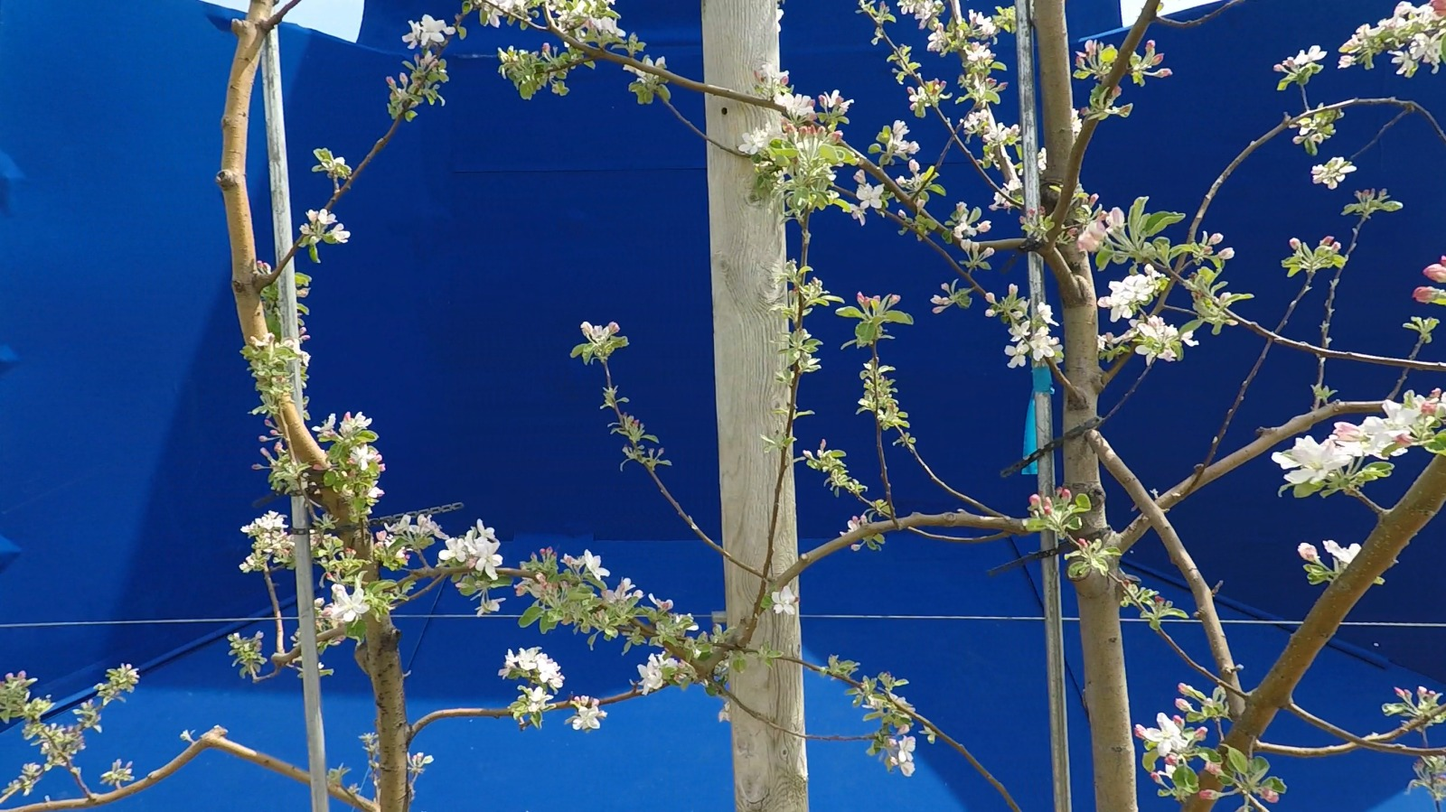flower: (1272, 390, 1440, 484), (375, 515, 503, 581), (1339, 0, 1446, 52), (1136, 713, 1197, 784), (1098, 314, 1178, 367), (1098, 265, 1166, 322), (498, 648, 565, 692), (1388, 28, 1446, 78), (556, 0, 625, 39), (315, 581, 371, 625), (1077, 207, 1125, 256), (845, 170, 885, 227), (241, 511, 294, 551), (402, 14, 456, 50), (637, 651, 678, 695), (300, 210, 350, 243), (1274, 46, 1328, 74), (1313, 157, 1357, 190), (888, 121, 920, 162), (568, 550, 610, 581), (565, 699, 607, 730), (1005, 321, 1031, 369), (347, 444, 383, 475), (897, 0, 934, 29), (602, 578, 643, 604), (774, 92, 816, 117), (820, 90, 854, 120), (953, 213, 991, 239), (1030, 327, 1059, 361), (581, 322, 620, 347), (1323, 540, 1361, 564), (928, 18, 949, 57), (739, 127, 768, 155), (963, 42, 993, 68), (527, 687, 556, 713), (312, 414, 343, 438), (340, 413, 372, 435), (637, 56, 672, 76), (899, 736, 916, 777), (964, 106, 991, 131), (772, 586, 795, 615), (763, 63, 789, 88), (970, 10, 996, 34), (477, 598, 506, 617), (486, 0, 527, 13), (1299, 543, 1321, 565), (1000, 180, 1023, 201), (1038, 303, 1059, 326), (996, 124, 1021, 142), (990, 192, 1014, 210), (649, 594, 673, 612), (1424, 265, 1446, 283), (484, 8, 503, 28), (366, 481, 386, 499), (908, 87, 929, 102), (546, 0, 565, 13), (330, 153, 345, 166), (909, 160, 920, 172), (346, 165, 352, 173), (687, 626, 699, 630), (1017, 136, 1022, 142), (1441, 256, 1446, 261)
